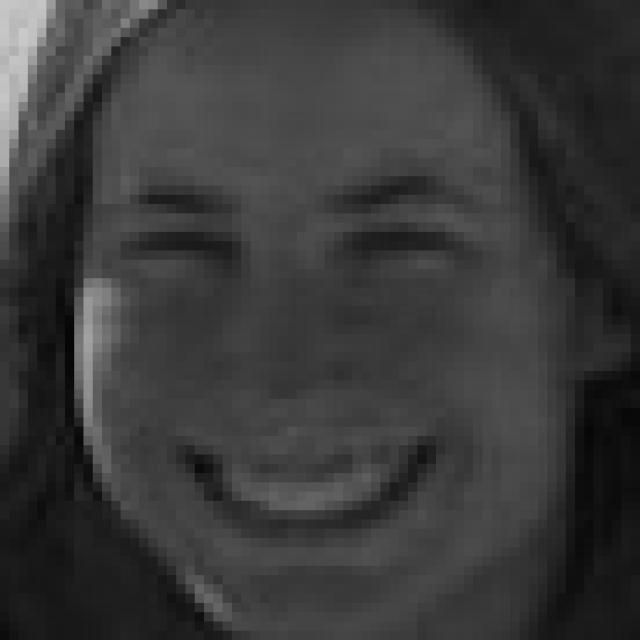real: (63, 26, 573, 596), (120, 174, 474, 299)
